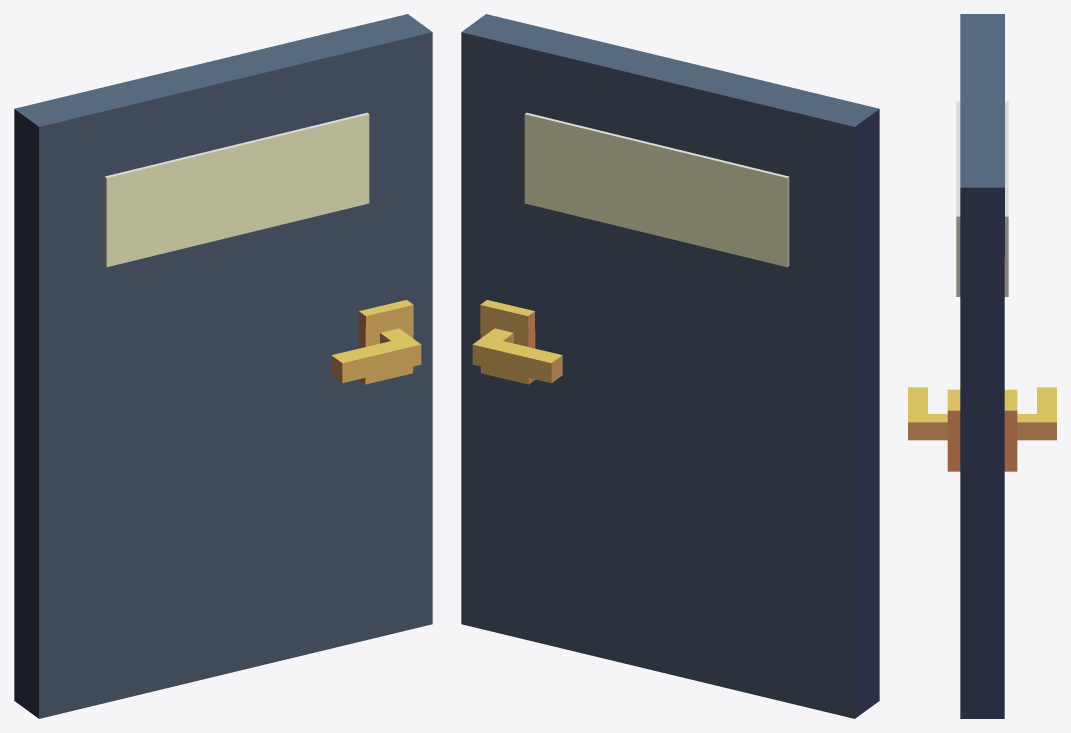
The model's file is Door.fbx.
3 renders of one model, left to right at view 1: azimuth 30°, elevation 25°; view 2: azimuth 150°, elevation 25°; view 3: azimuth 270°, elevation 25°, orthographic. The views are drawn at different scales.
Parts seen in each view (by area): view 1: Door; view 2: Door; view 3: Door.
Boxes of the visible parts, x1,y1,x2,y2 form: Door: (14, 14, 432, 718); Door: (461, 14, 879, 718); Door: (908, 14, 1056, 718).
Bounding box in the file's own units: 64.75 × 93.26 × 23.62.
